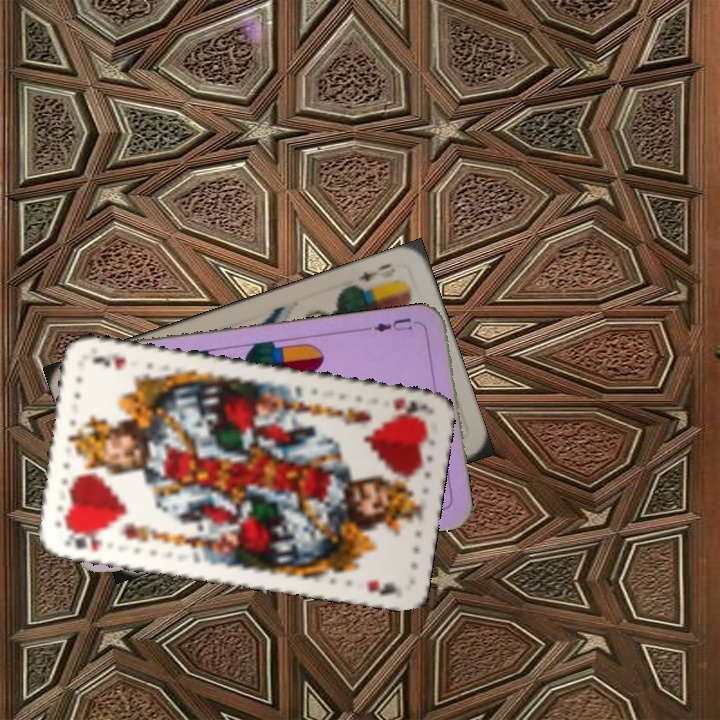EO: (347, 259, 394, 294)
EU: (364, 314, 424, 335)
HK: (59, 525, 105, 555), (389, 392, 430, 417)
